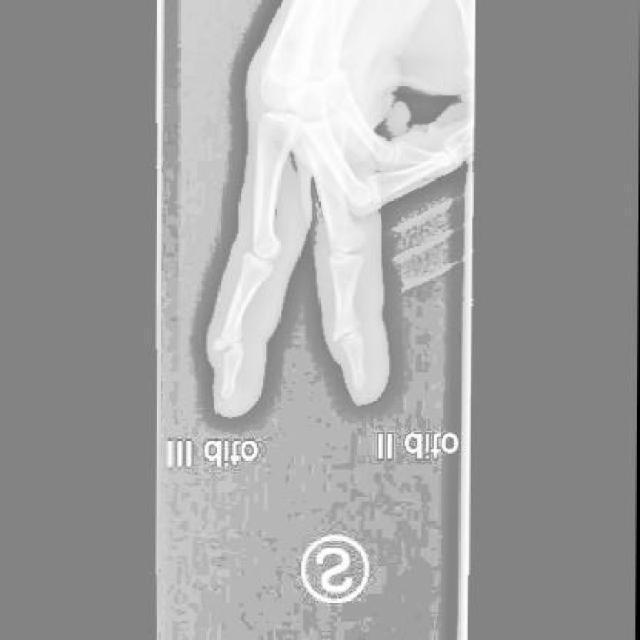Fracture: (211, 337, 236, 362), (331, 329, 353, 349)
